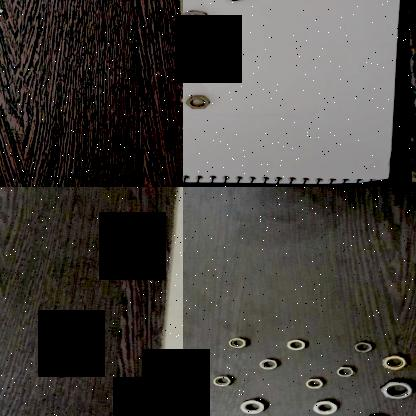NUTS: (378, 379, 416, 401), (374, 352, 411, 370), (183, 7, 212, 29), (183, 51, 208, 73), (234, 398, 268, 414), (308, 398, 338, 416), (204, 375, 242, 389), (183, 92, 211, 110), (284, 336, 310, 350), (300, 376, 328, 388), (256, 358, 282, 370), (225, 335, 247, 349), (359, 412, 394, 416)
